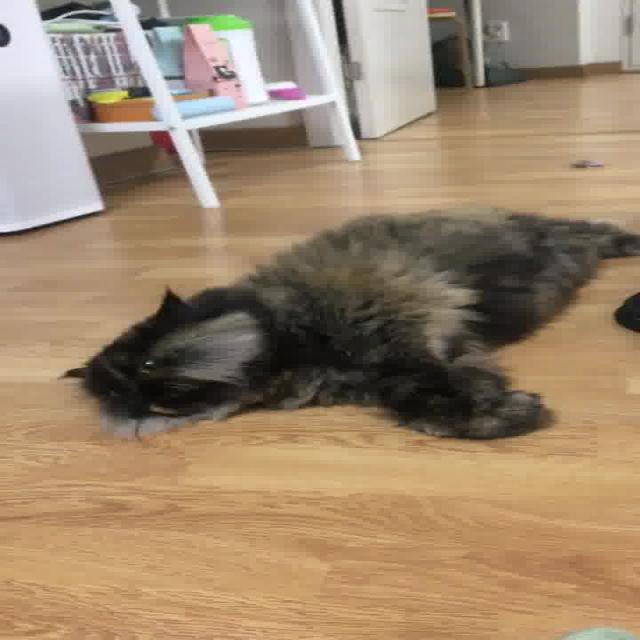cat: (47, 150, 640, 457)
